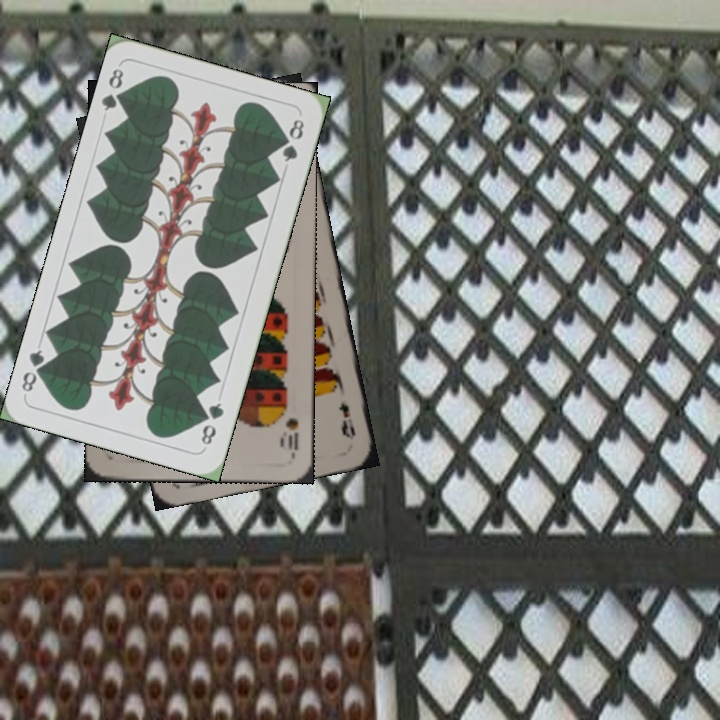E9: (334, 398, 358, 442)
G8: (98, 64, 130, 114), (197, 398, 227, 448)
S10: (278, 413, 301, 456)
